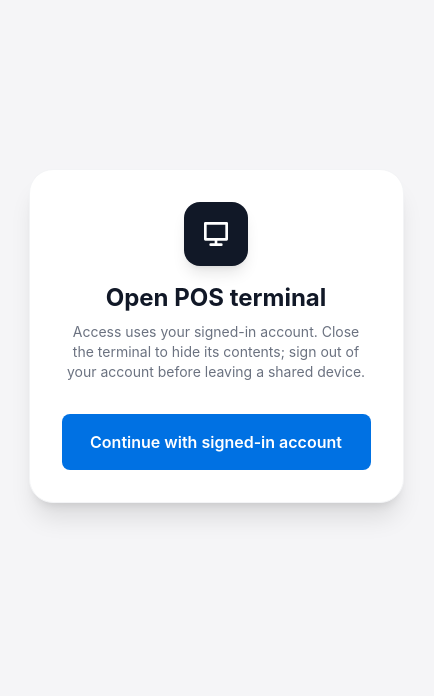
Test: POS terminal identity › does not treat an unconfirmed terminal registration as ready: {"status":503,"body":{"success":true,"session_id":"not-confirmed"}}
Click the button "Continue with signed-in account" at (216, 442), box [62,414,370,470]
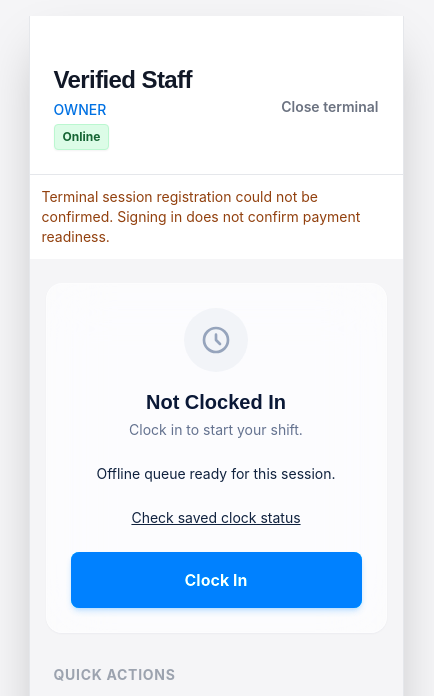
Check: the heading "Verified Staff" is shown, box [54,64,192,96]
Check: the message named "Terminal session status" shows "Terminal session registration could not be confirmed. Signing in does not confirm payment readiness.", box [42,188,360,245]
